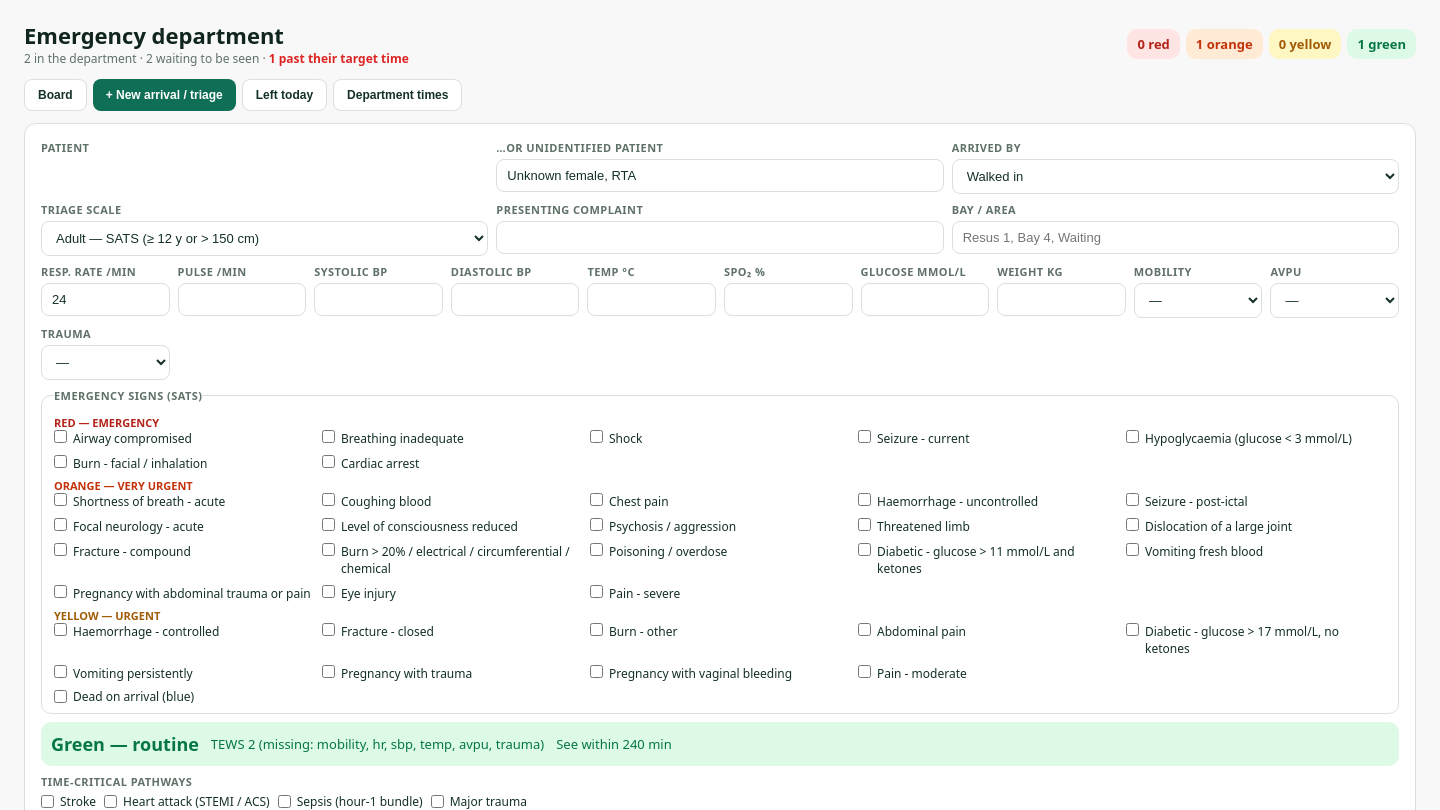
emergency department screen › triages from vital signs: TEWS and emergency signs give the colour, pathways are suggested
Earlier steps of the test are not shown.
Later steps or results of the test are not shown.
Type "118" into the field labelled "Pulse /min" at (242, 300), box [178, 283, 306, 316]
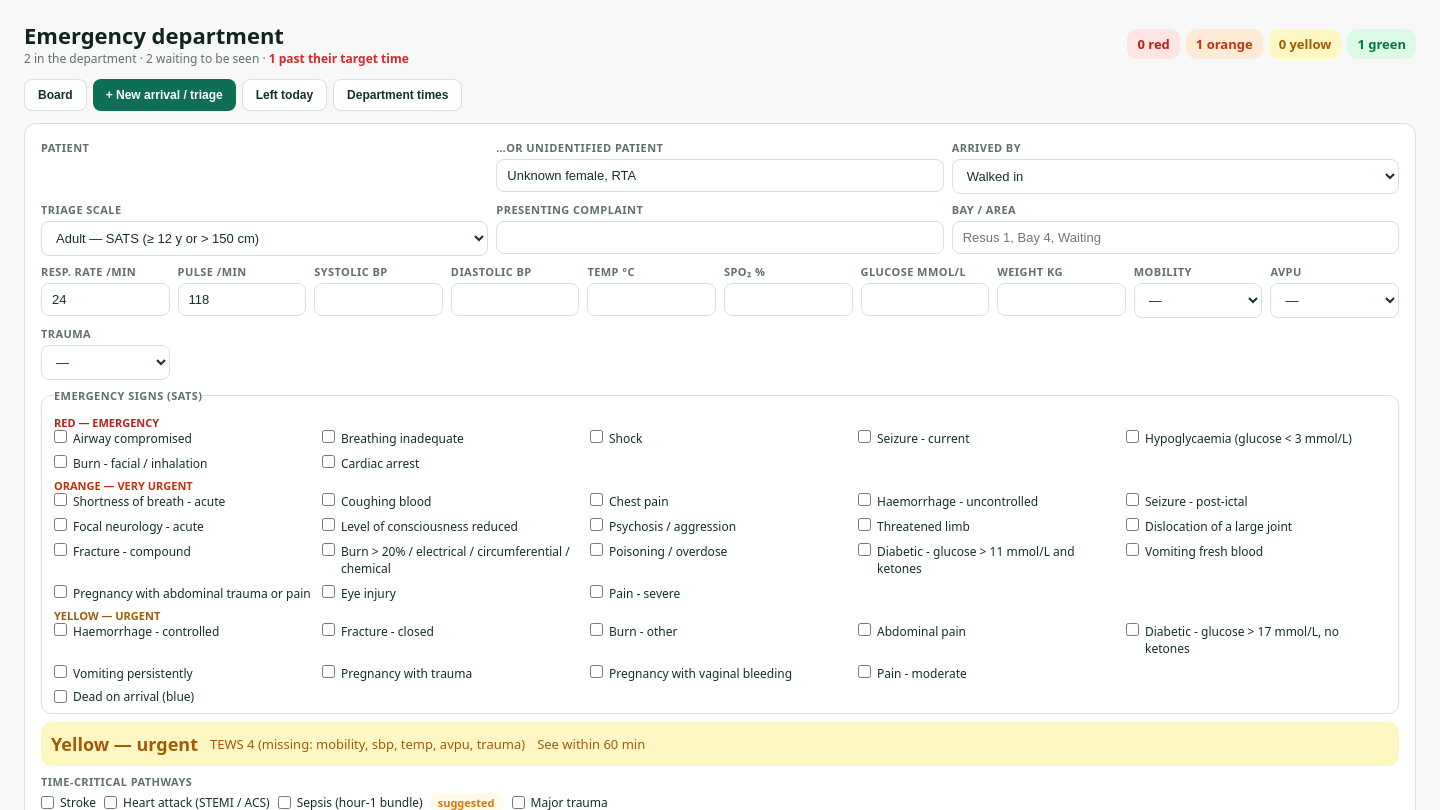
Type "95" into the field labelled "Systolic BP" at (378, 300), box [314, 283, 443, 316]
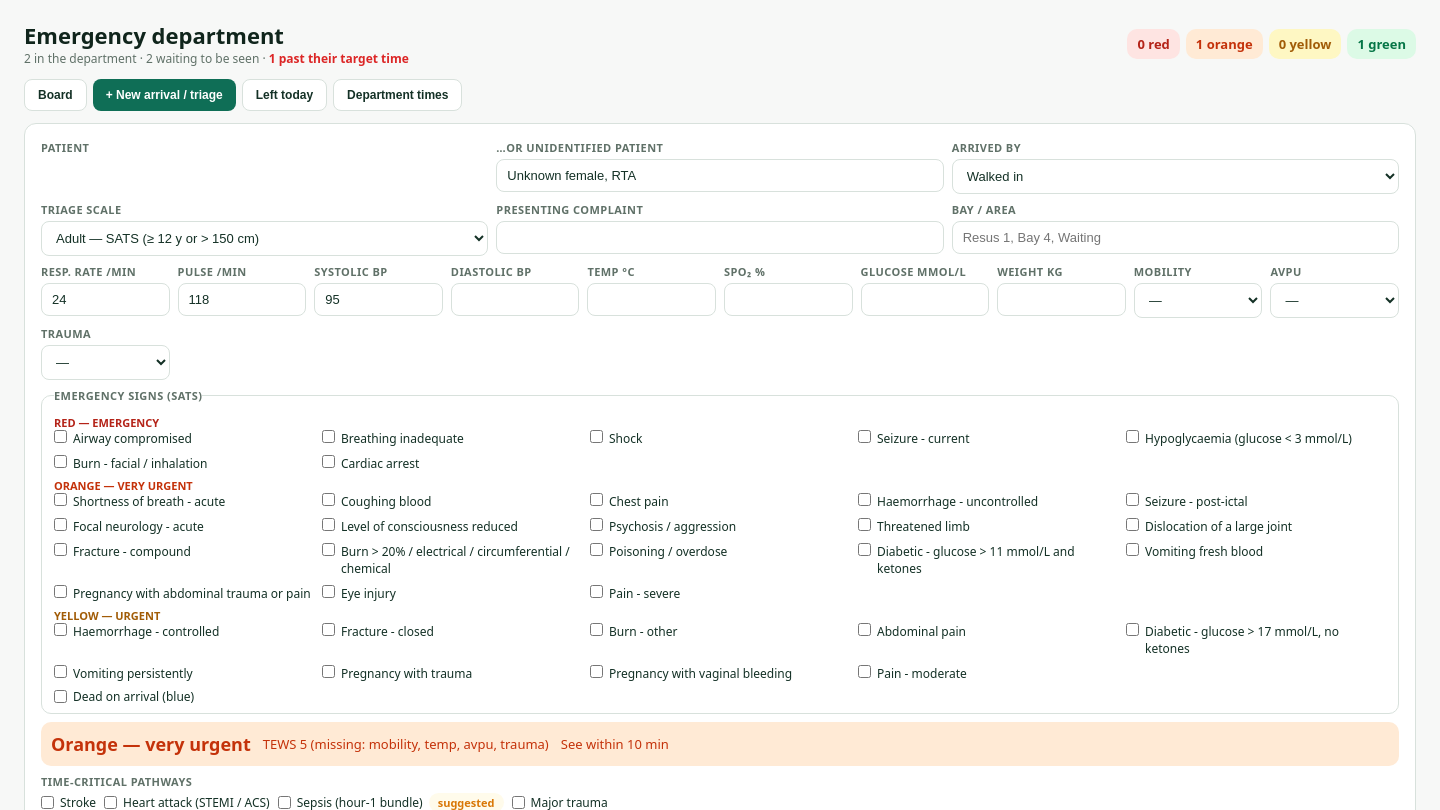
Type "37" into the field labelled "Temp °C" at (652, 300), box [587, 283, 716, 316]
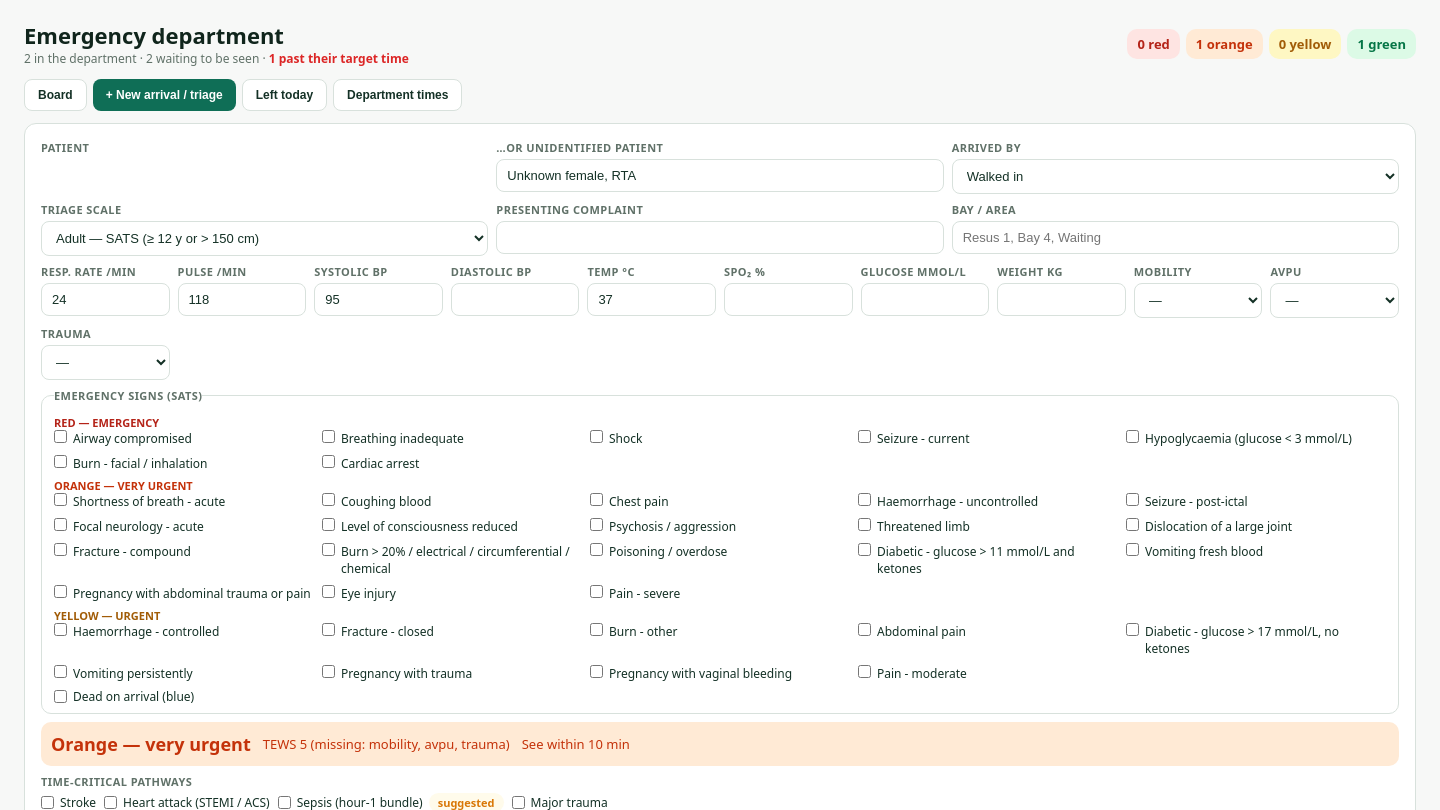
Select "Stretcher / immobile" in the dropdown labelled "Mobility" at (1198, 300), box [1134, 283, 1262, 318]
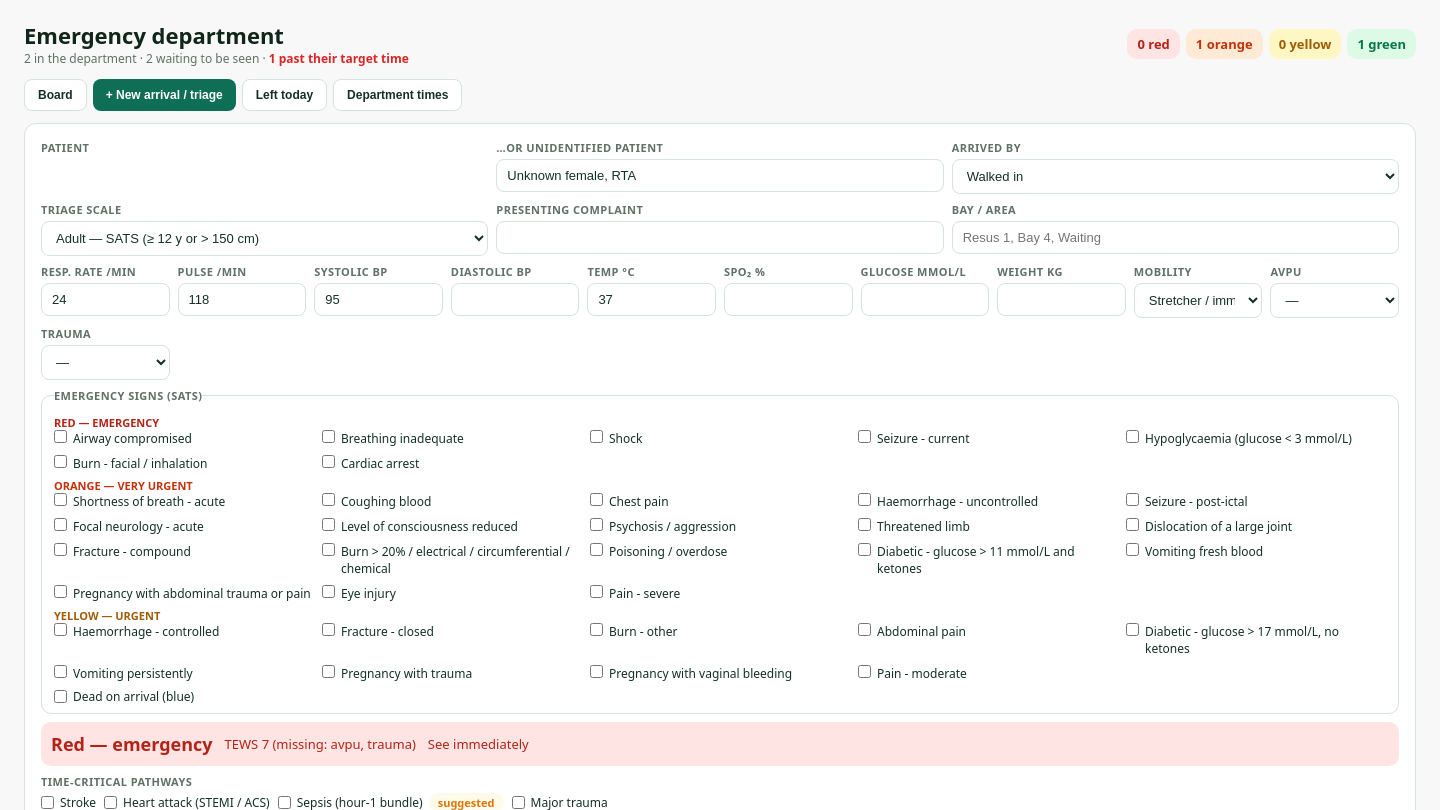
Select "Alert" in the dropdown labelled "AVPU" at (1335, 300), box [1270, 283, 1399, 318]
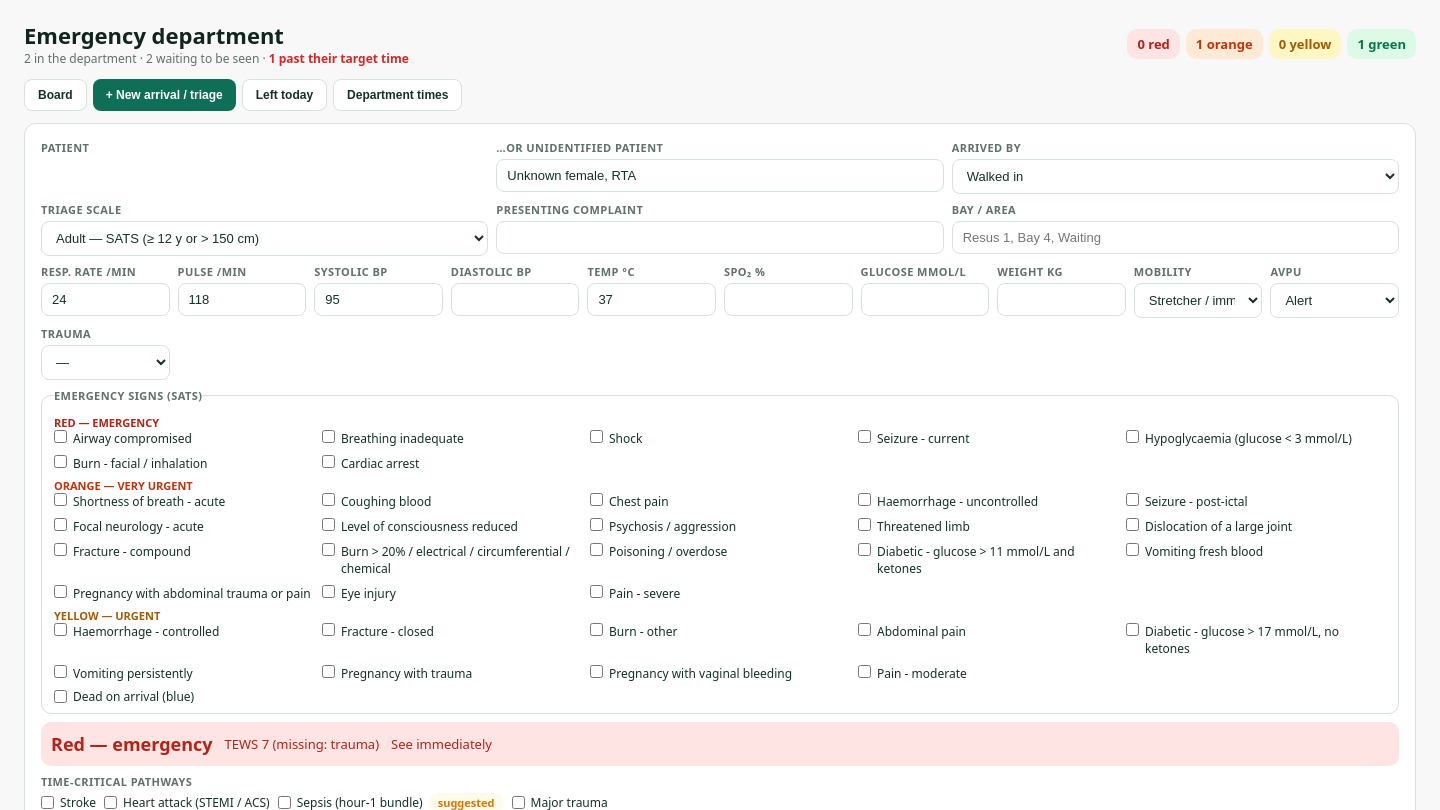
Select "Yes" in the dropdown labelled "Trauma" at (105, 362), box [41, 345, 170, 380]
(page scrolled)
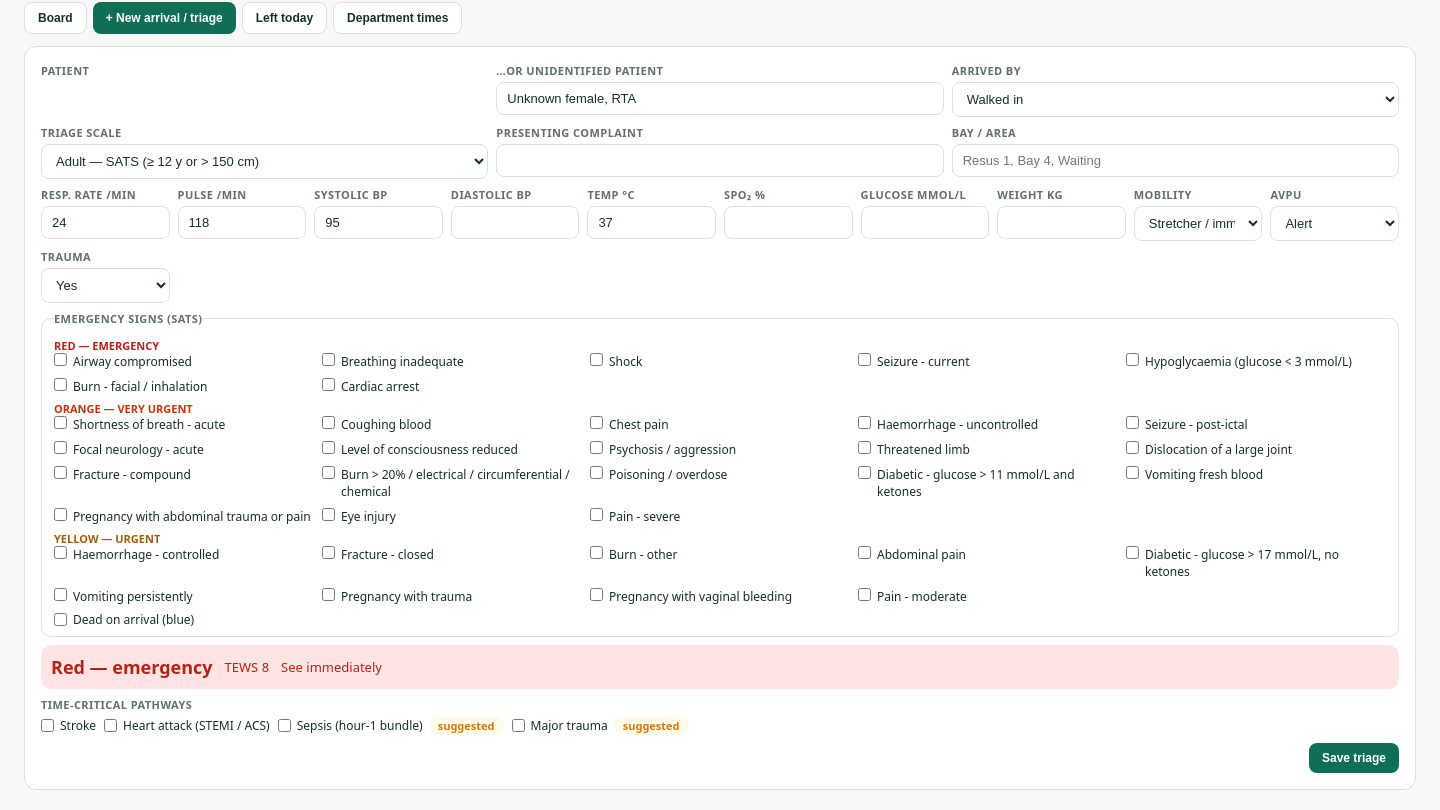
Expected: the text "Red — emergency" is shown, [51, 655, 213, 679]
Expected: the text "suggested" next to "Sepsis (hour-1 bundle)" is shown, [438, 718, 494, 733]
Expected: the text "TEWS 8" is shown, [225, 658, 269, 676]
